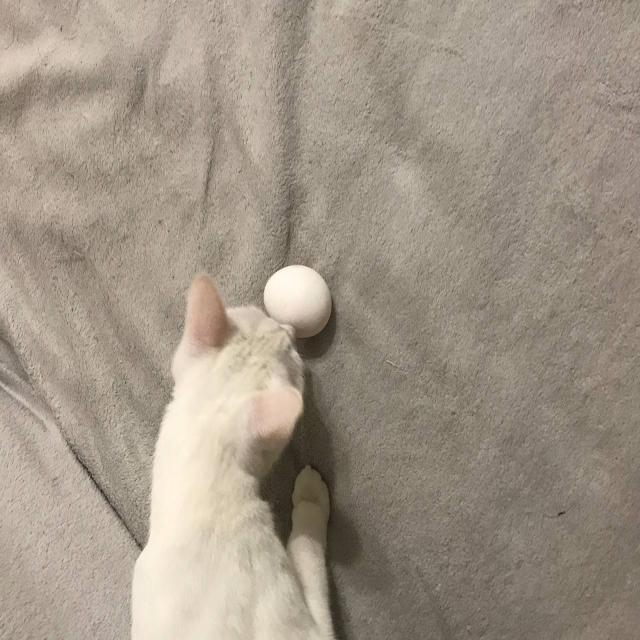egg: (263, 264, 333, 339)
